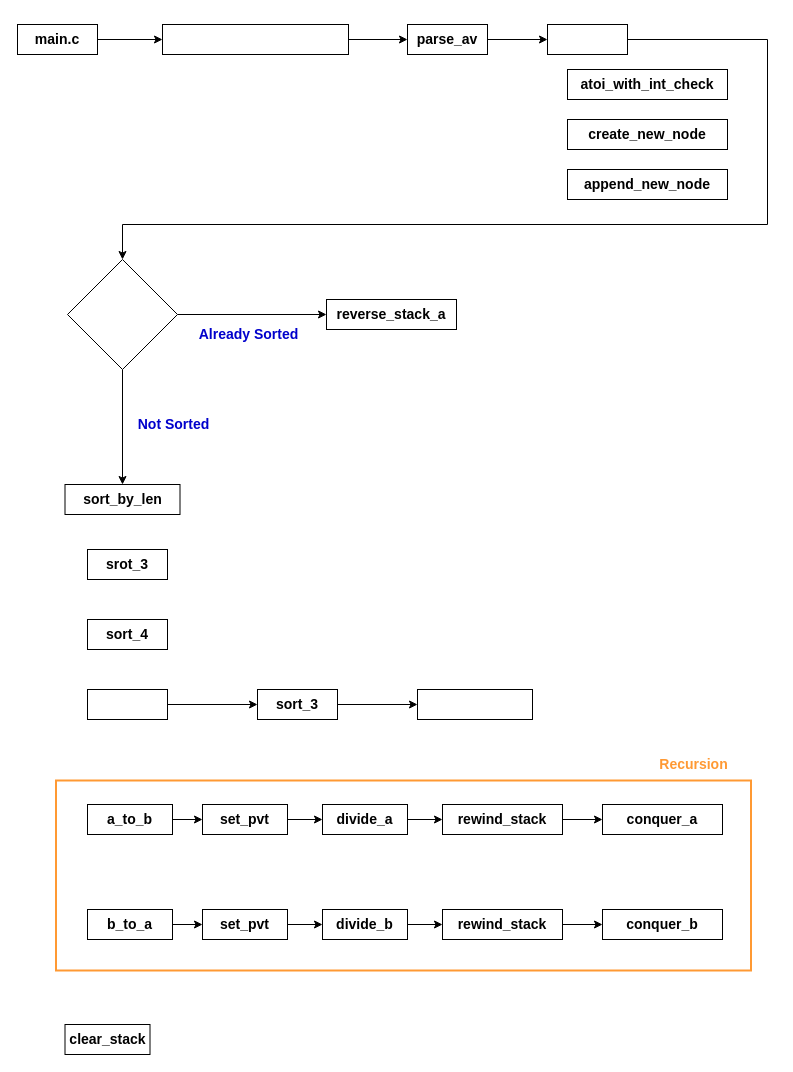
The diagram is 793 pixels wide and 1072 high, and some of its shapes have lost their labels. Here are the shapes that lost their labels. From the top down, the centre of each, then its label:
the point at 255,39: get_len_with_null_check
the point at 587,39: init_stack
the point at 122,314: check_dup
the point at 127,704: sort_5
the point at 474,704: sort_minmax
